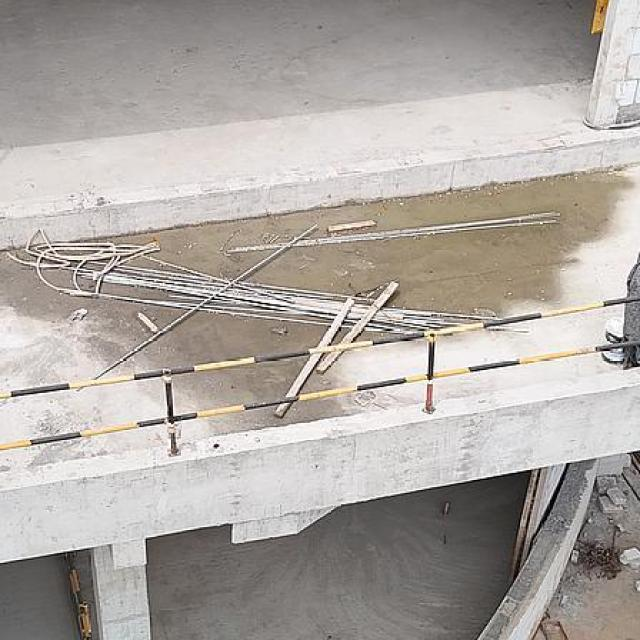edge_guardrail: (0, 294, 640, 459), (65, 551, 94, 640)
